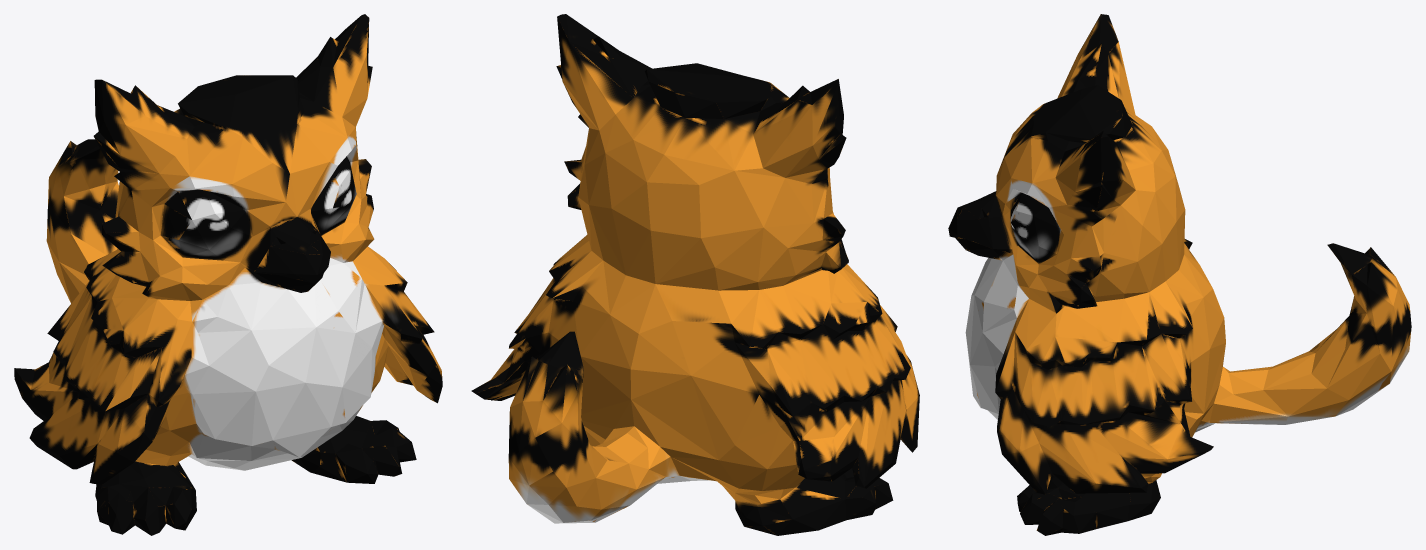
Rendered from Tiguin.glb.
3 renders of one model, left to right at view 1: azimuth 30°, elevation 25°; view 2: azimuth 150°, elevation 25°; view 3: azimuth 270°, elevation 25°, orthographic. The views are drawn at different scales.
Visible parts, largest first — view 1: model.001; view 2: model.001; view 3: model.001.
Boxes of the visible parts, bbox=[...] form: model.001: bbox=[14, 14, 442, 535]; model.001: bbox=[471, 14, 919, 535]; model.001: bbox=[948, 14, 1411, 535].
Bounding box in the file's own units: 1.6 × 1.82 × 1.93.
1 material, 1 textured.
